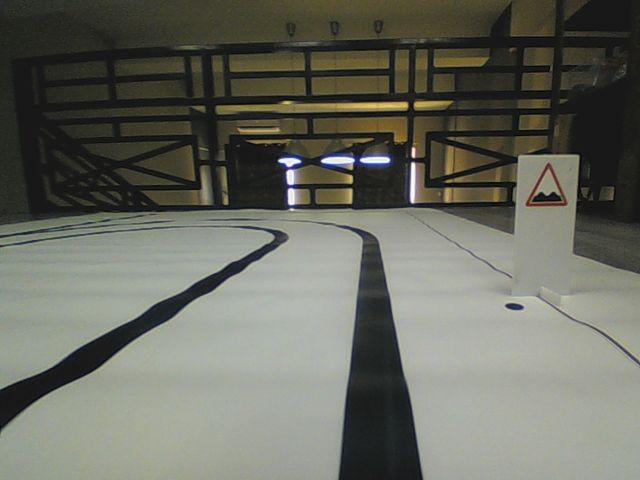Nerov: (524, 160, 569, 208)
